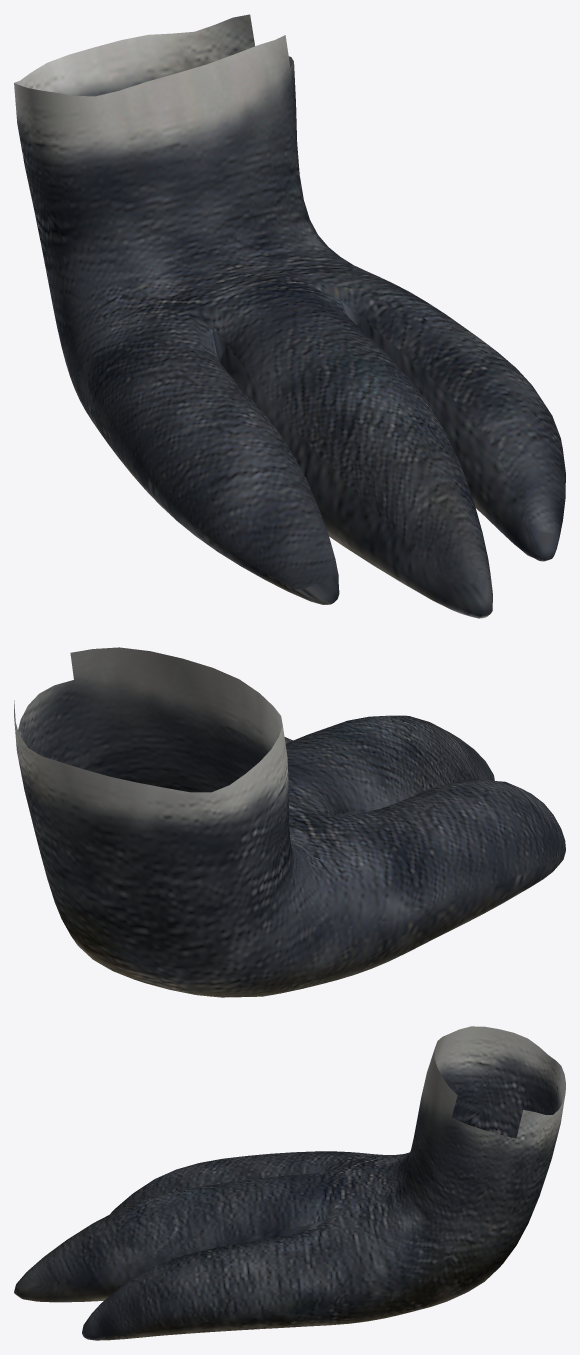
File: PataDerPin.obj
3 renders of one model, top to bottom at view 1: azimuth 30°, elevation 25°; view 2: azimuth 150°, elevation 25°; view 3: azimuth 270°, elevation 25°, orthographic. The views are drawn at different scales.
Visible parts, largest first — view 1: 10033_Penguin_v1_iterations-2.002; view 2: 10033_Penguin_v1_iterations-2.002; view 3: 10033_Penguin_v1_iterations-2.002.
Boxes of the visible parts, <box> form: 10033_Penguin_v1_iterations-2.002: <box>14,14,565,618</box>; 10033_Penguin_v1_iterations-2.002: <box>14,647,565,997</box>; 10033_Penguin_v1_iterations-2.002: <box>14,1026,565,1340</box>.
Bounding box in the file's own units: 0.0351 × 0.0311 × 0.0631.
Materials: 1 (1 with a texture image).
